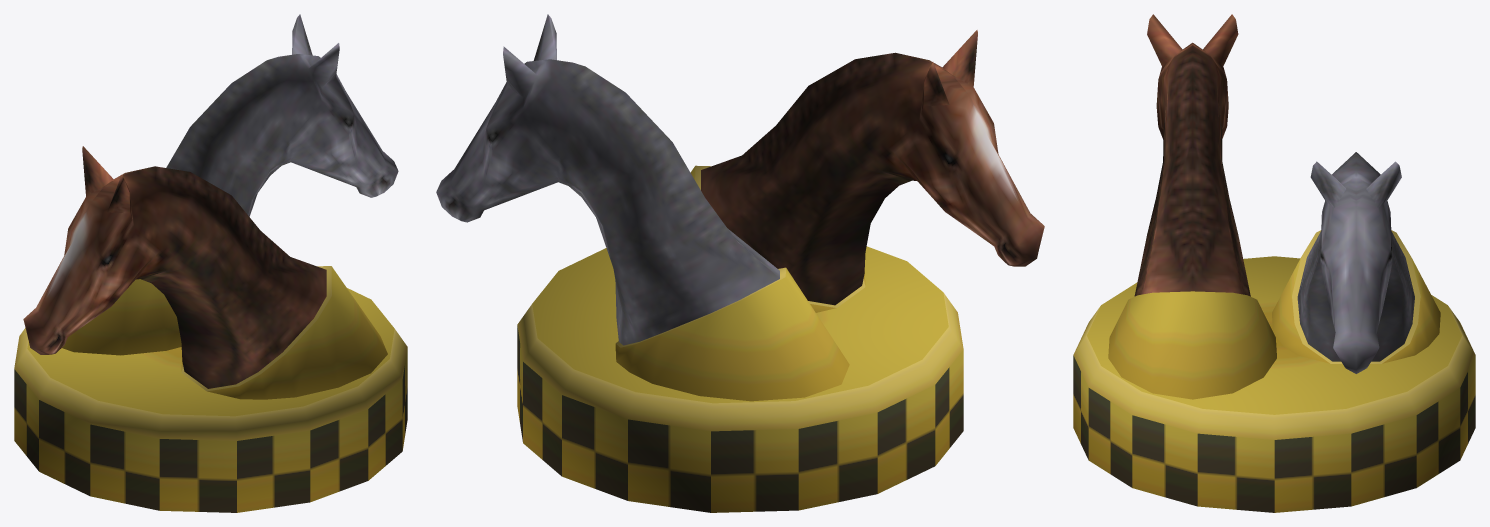
Rendered from ic_dream.icn.obj.
3 views of the same model, side by side, from view 1: azimuth 30°, elevation 25°; view 2: azimuth 150°, elevation 25°; view 3: azimuth 270°, elevation 25° (orthographic). The views are drawn at different scales.
Size of the model in its own units: 4.87 by 3.5 by 3.75.
1 material, 1 textured.
